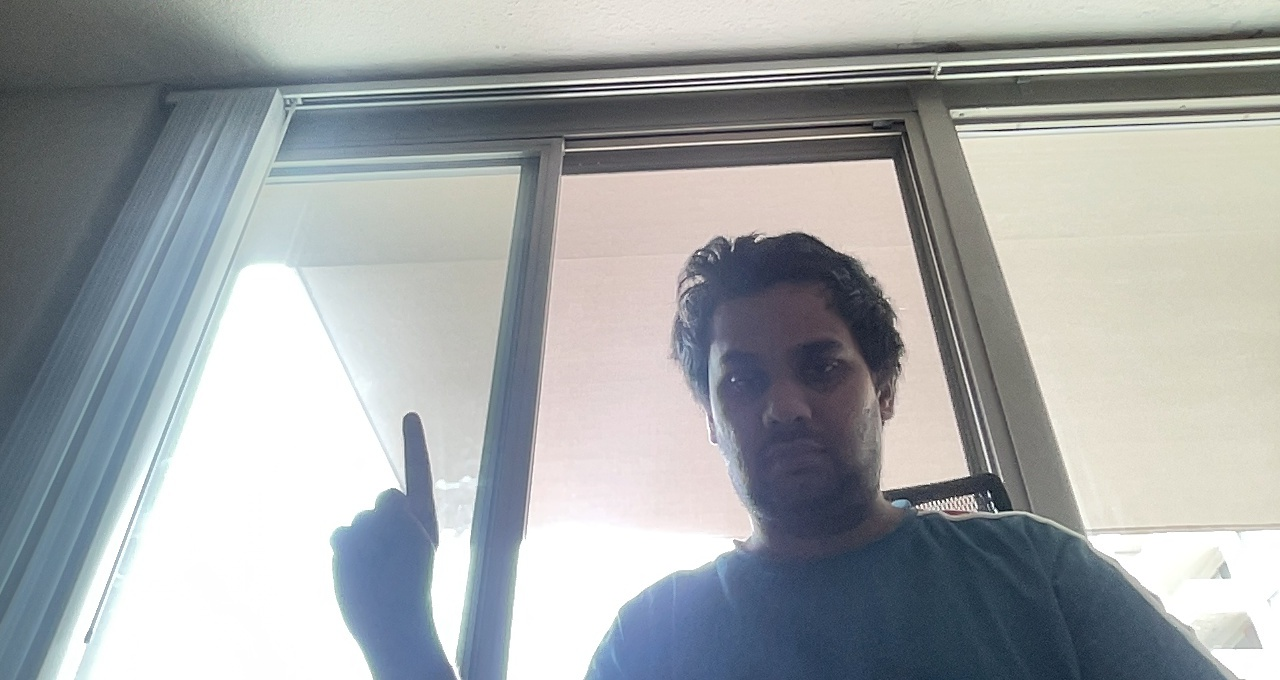fingerup: (313, 404, 453, 592)
